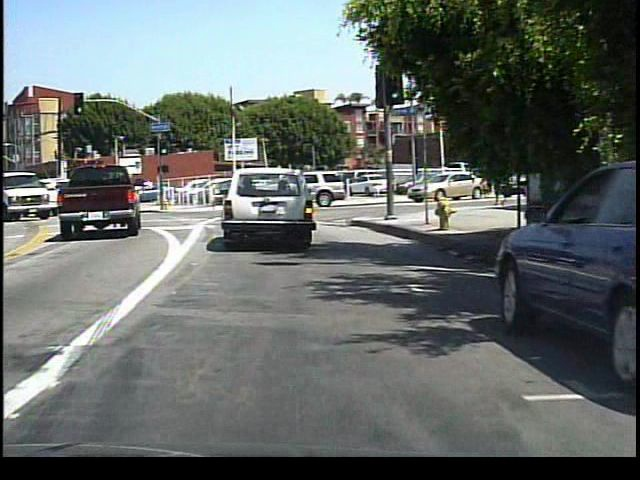person: (385, 165, 402, 203)
